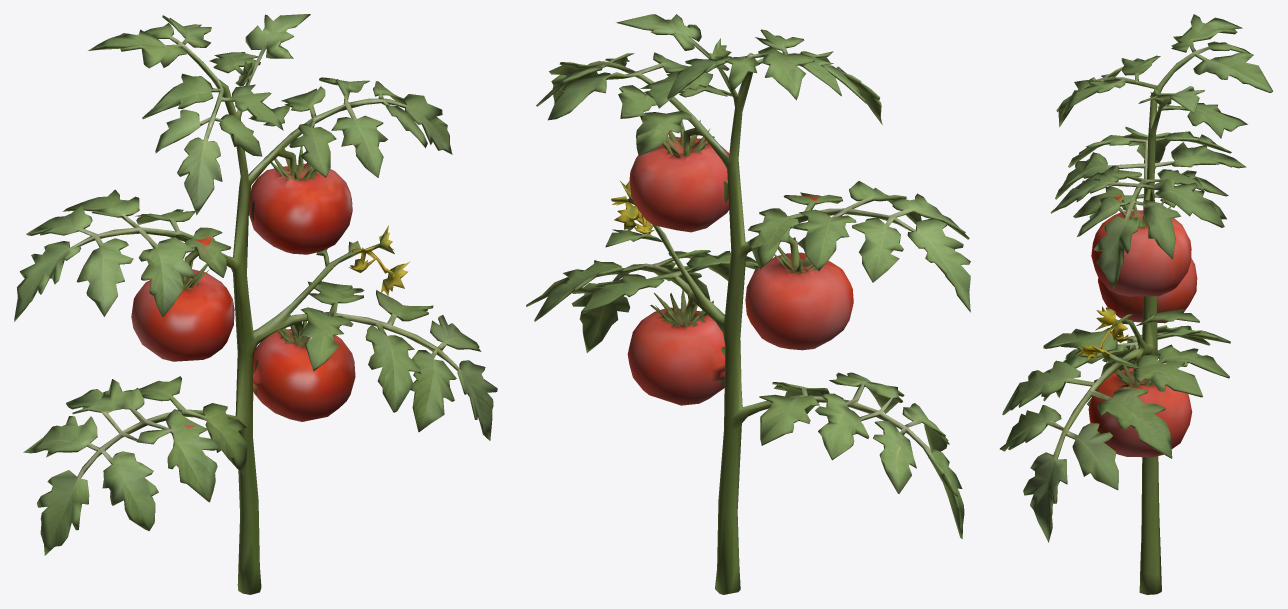
File: ripe-fruit.glb
3 views of the same model, side by side, from view 1: azimuth 30°, elevation 25°; view 2: azimuth 150°, elevation 25°; view 3: azimuth 270°, elevation 25° (orthographic). The views are drawn at different scales.
Parts seen in each view (by area): view 1: tripo_node_7908b4f2-74c0-4bb9-8ee0-660d3c6957c7; view 2: tripo_node_7908b4f2-74c0-4bb9-8ee0-660d3c6957c7; view 3: tripo_node_7908b4f2-74c0-4bb9-8ee0-660d3c6957c7.
Part boxes in pixels (left/top/right/bottom): tripo_node_7908b4f2-74c0-4bb9-8ee0-660d3c6957c7: left=14, top=14, right=497, bottom=594; tripo_node_7908b4f2-74c0-4bb9-8ee0-660d3c6957c7: left=526, top=14, right=970, bottom=594; tripo_node_7908b4f2-74c0-4bb9-8ee0-660d3c6957c7: left=999, top=14, right=1273, bottom=594.
Bounding box in the file's own units: 0.8421 × 1 × 0.4694.
1 material, 1 textured.
